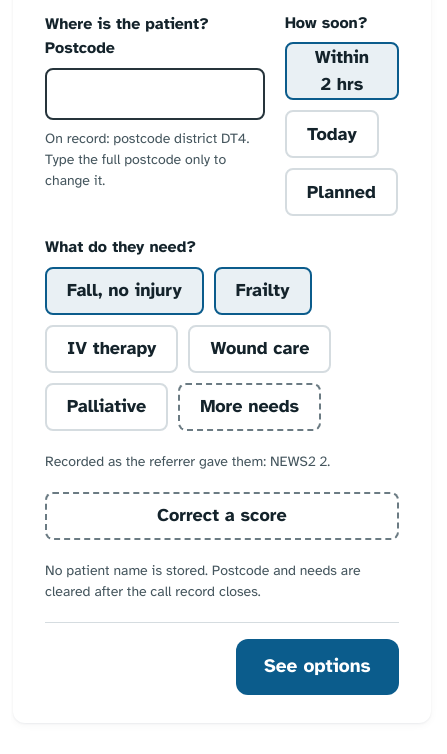
Test: recorded scores are changed only as a correction with a reason (Q7, KI-815) › keeps a recorded method pressed and not clearable, and offers no "Not given", while correcting
(page scrolled)
Click the button "Correct a score".
click(222, 516)  # box [45,492,399,540]
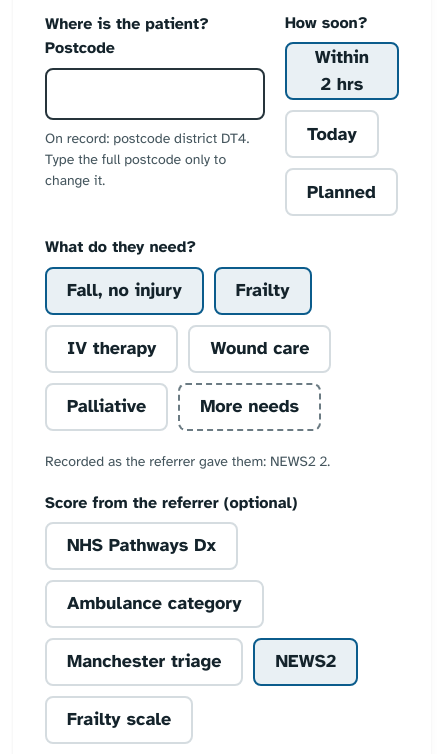
Now the button "NEWS2" is disabled, box [253,638,358,686]
